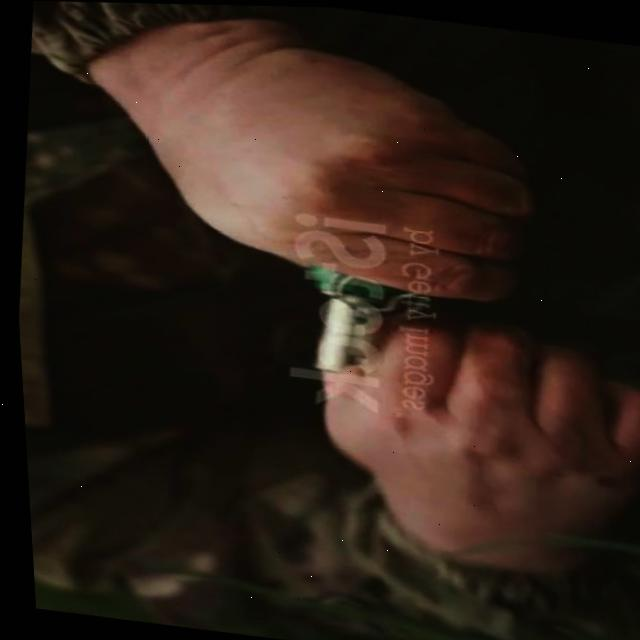grenade: (298, 275, 395, 377)
